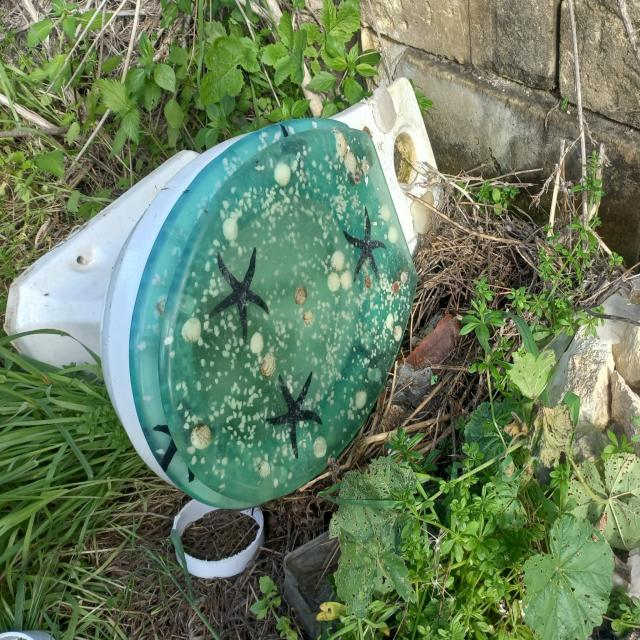Other plastic: (3, 75, 448, 511), (173, 498, 266, 579), (0, 631, 57, 640)
